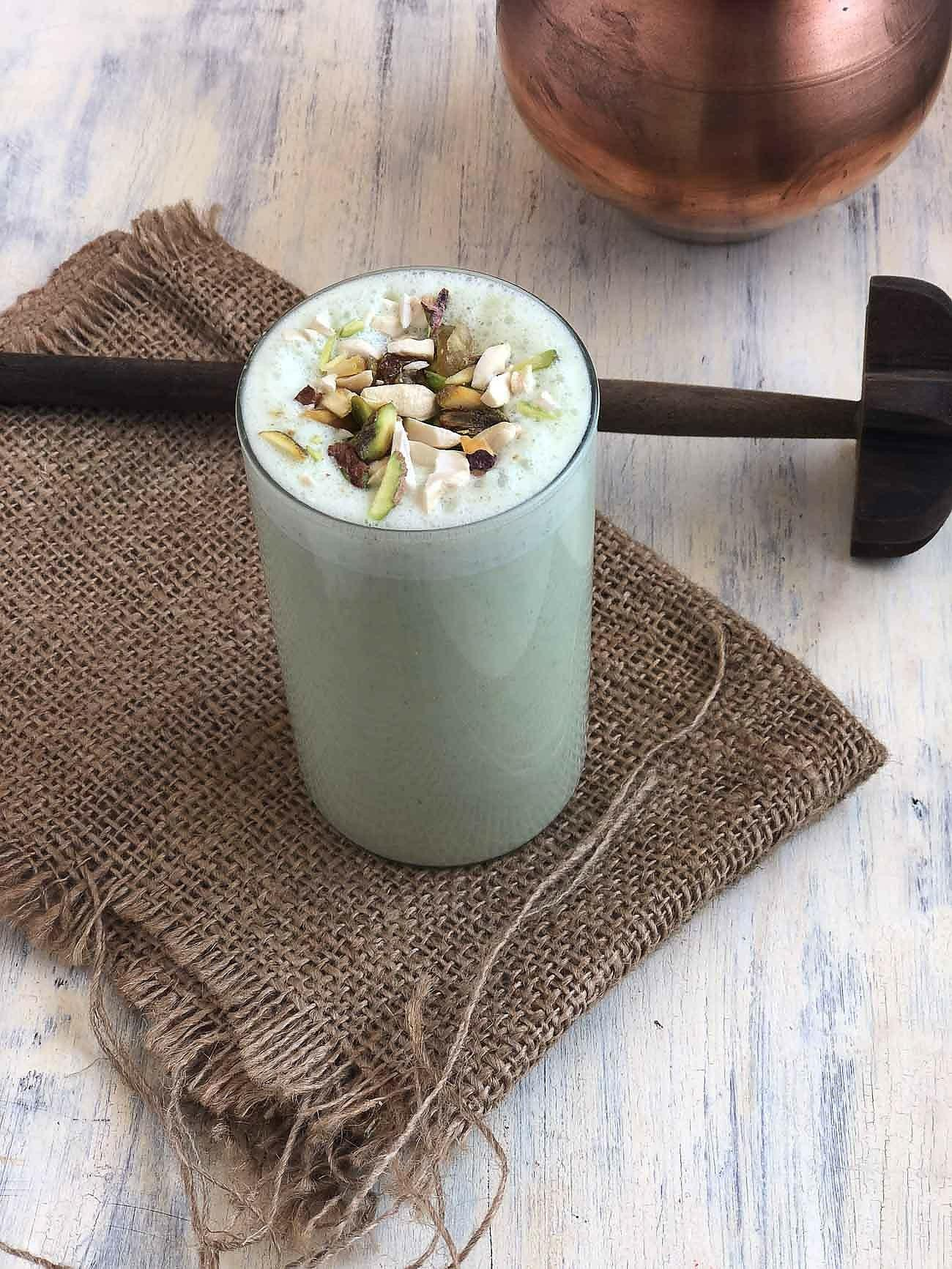Lassi: (242, 274, 595, 863)
